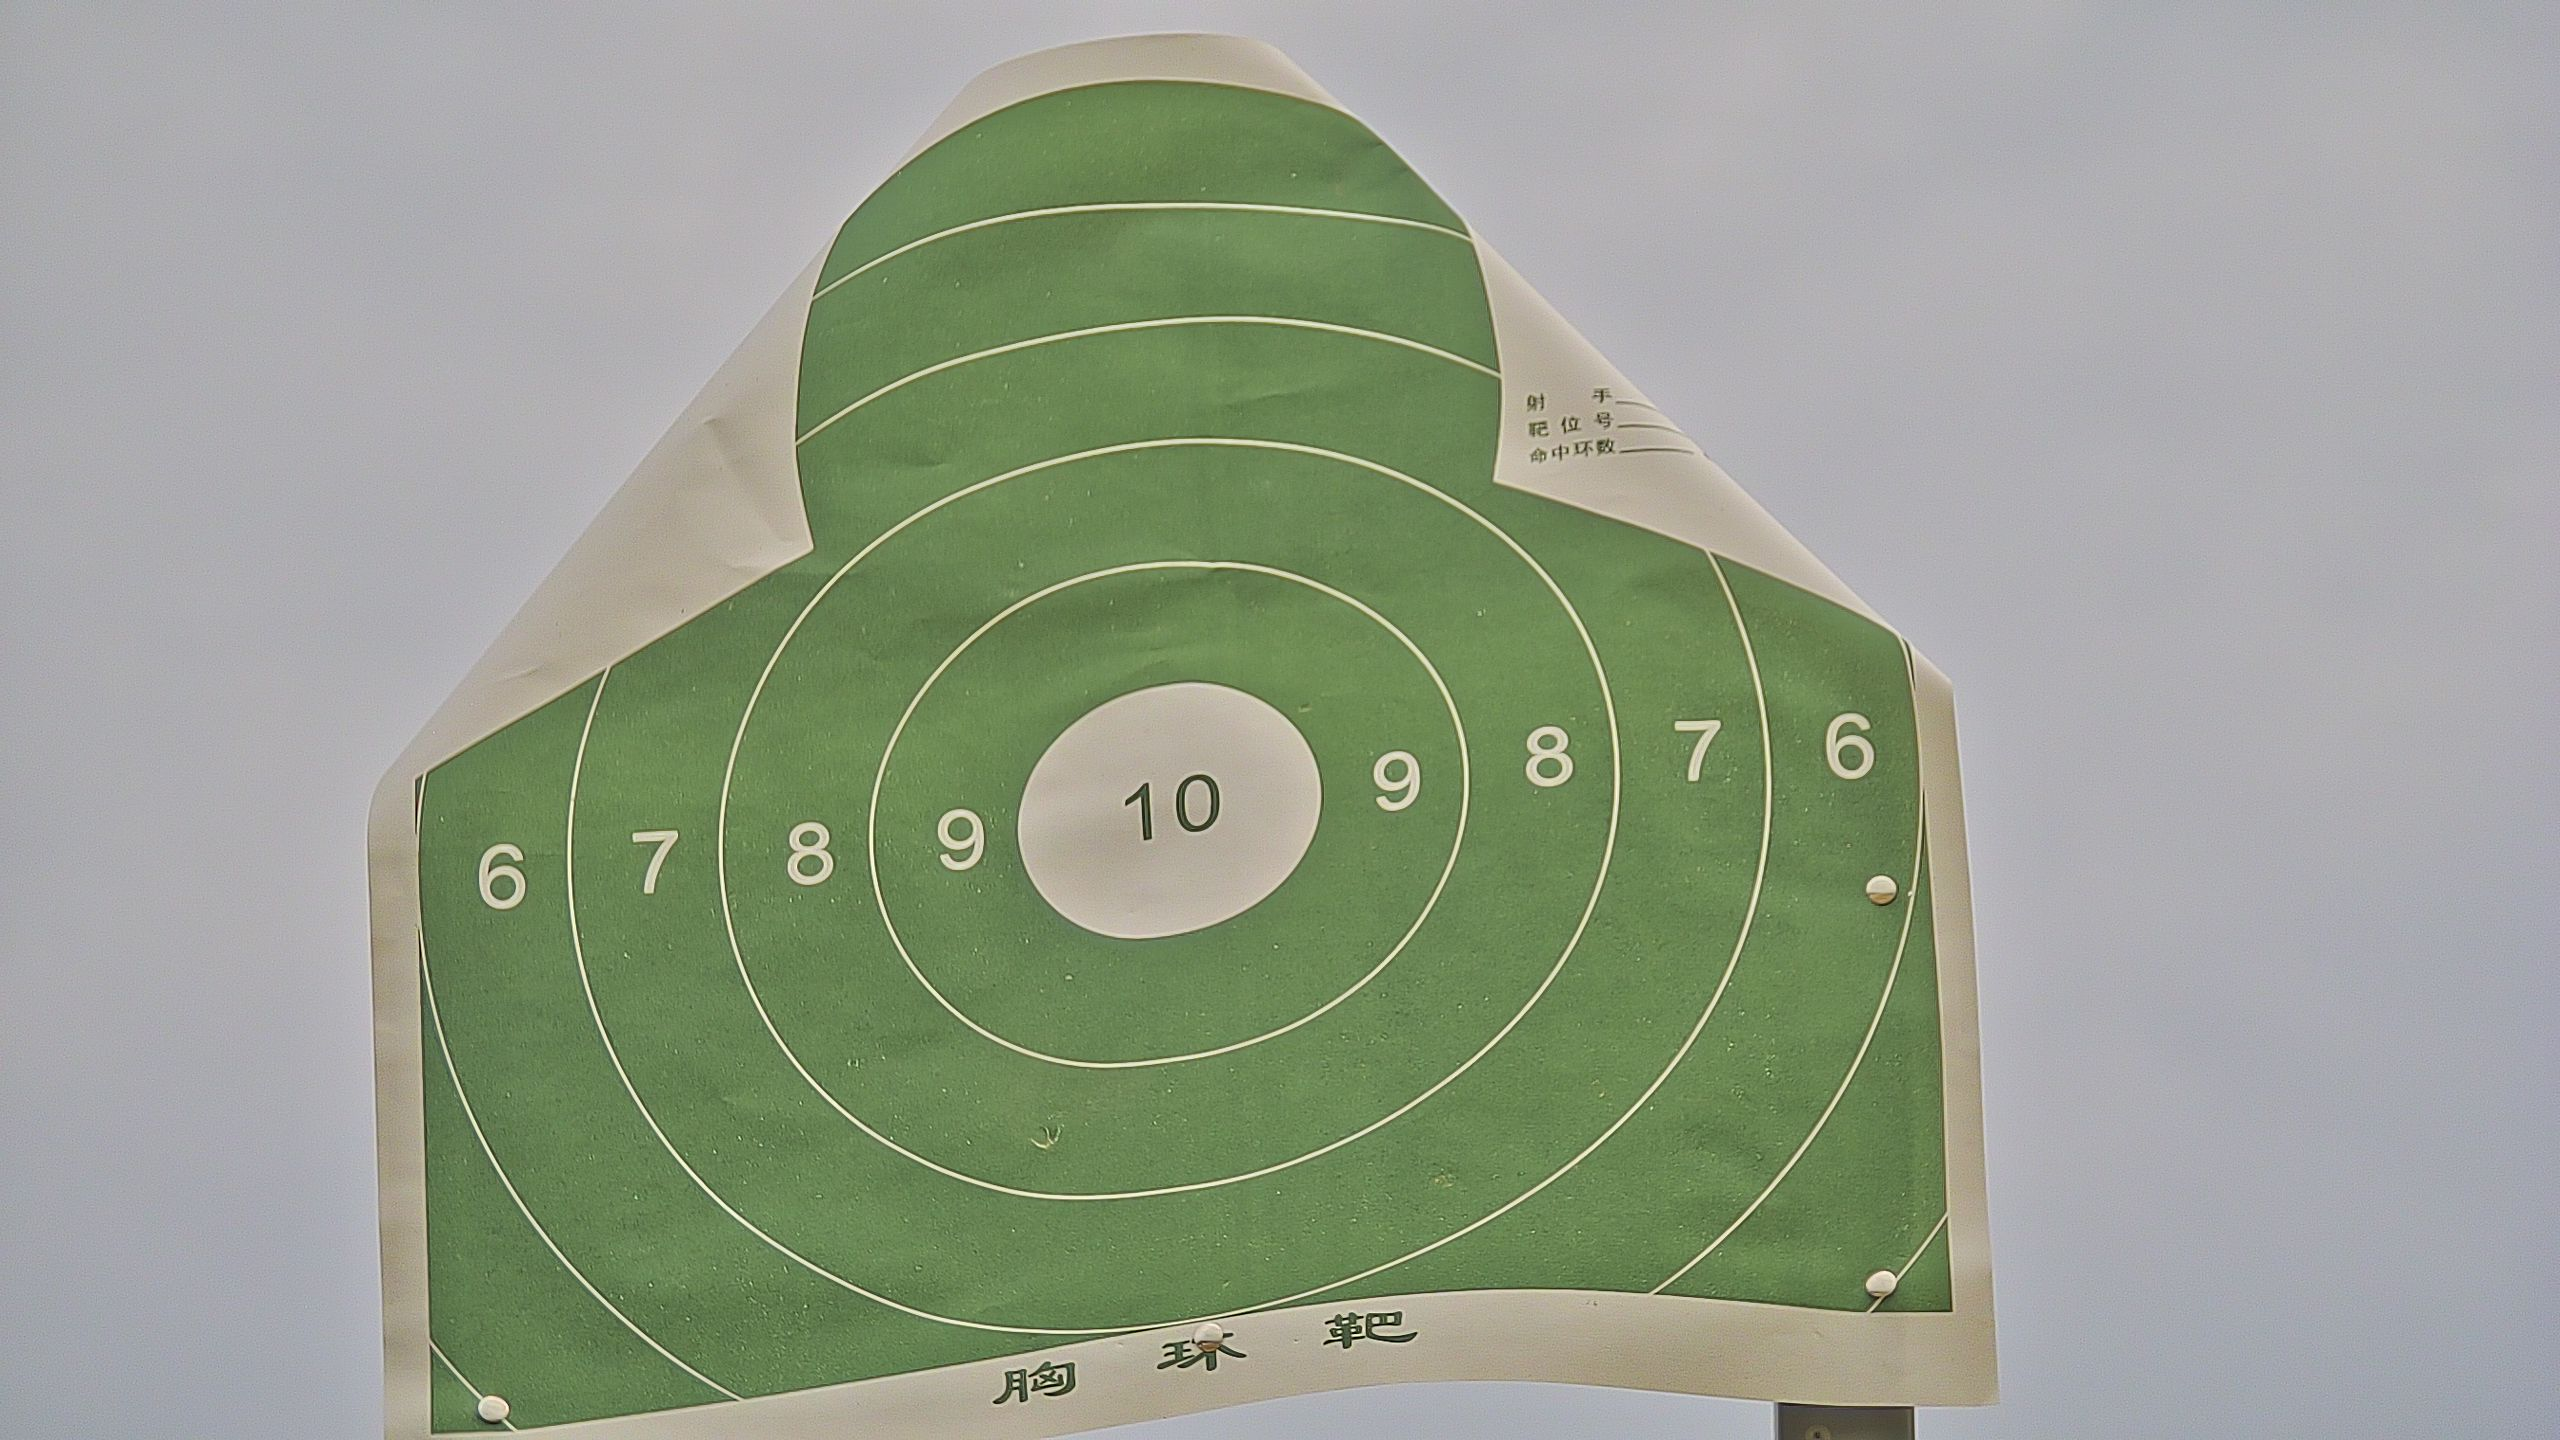kernel: (1164, 807, 1166, 812)
target: (411, 77, 1955, 1440)
ten: (1009, 682, 1326, 934)
